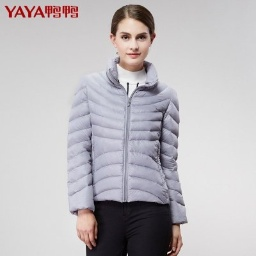face: (110, 3, 158, 68)
